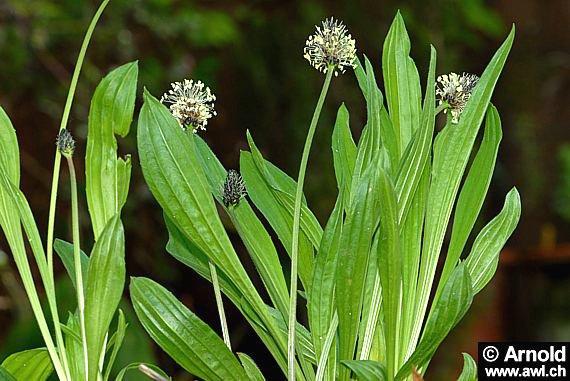buckhorn plantain: (20, 19, 506, 380)
